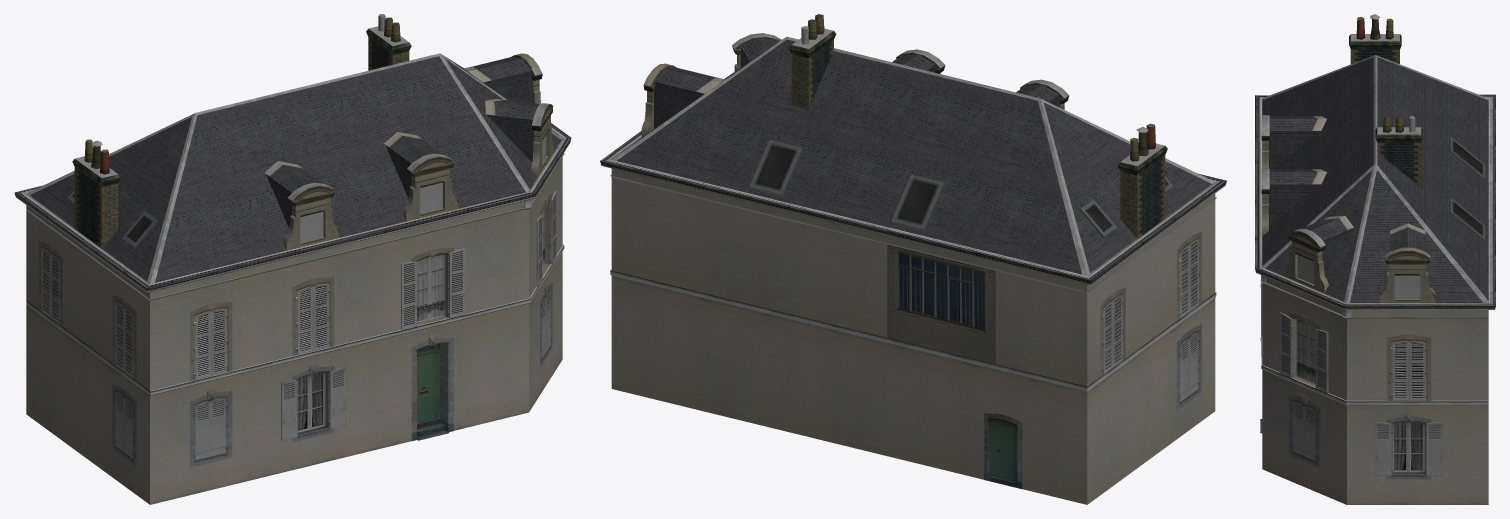
The model's file is city_corner_house.obj.
3 views of the same model, side by side, from view 1: azimuth 30°, elevation 25°; view 2: azimuth 150°, elevation 25°; view 3: azimuth 270°, elevation 25° (orthographic). The views are drawn at different scales.
Parts seen in each view (by area): view 1: building_main_0; view 2: building_main_0; view 3: building_main_0.
Part boxes in pixels (x1=…): building_main_0: x1=14, y1=14, x2=571, y2=504; building_main_0: x1=600, y1=14, x2=1226, y2=504; building_main_0: x1=1255, y1=14, x2=1495, y2=504.
Size of the model in its own units: 15.49 by 11.07 by 7.46.
1 material, 1 textured.
